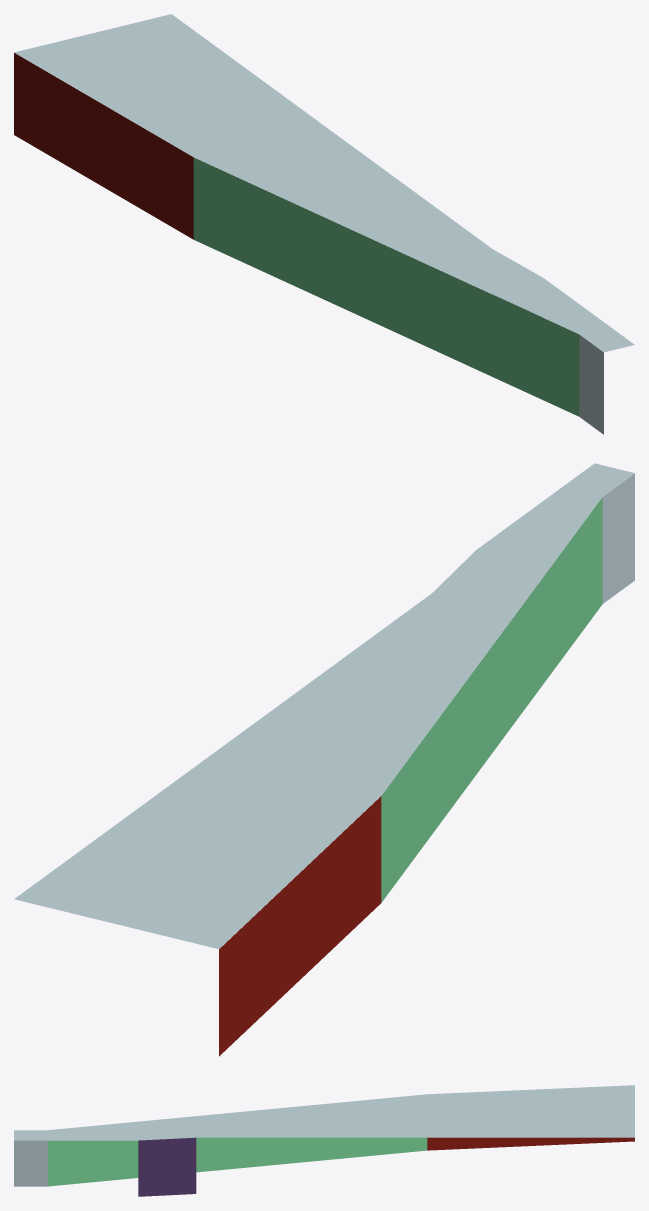
File: scramjet_n2_m2.glb
The picture shows the model from 3 angles, top to bottom: view 1: azimuth 30°, elevation 25°; view 2: azimuth 150°, elevation 25°; view 3: azimuth 270°, elevation 25°; orthographic projection. The views are drawn at different scales.
Visible parts, largest first — view 1: mesh0; view 2: mesh0; view 3: mesh0.
Boxes of the visible parts, left/top/right/bottom form: mesh0: left=14, top=14, right=634, bottom=434; mesh0: left=14, top=463, right=634, bottom=1056; mesh0: left=14, top=1085, right=634, bottom=1196.
Bounding box in the file's own units: 1.05 × 0.5005 × 5.
